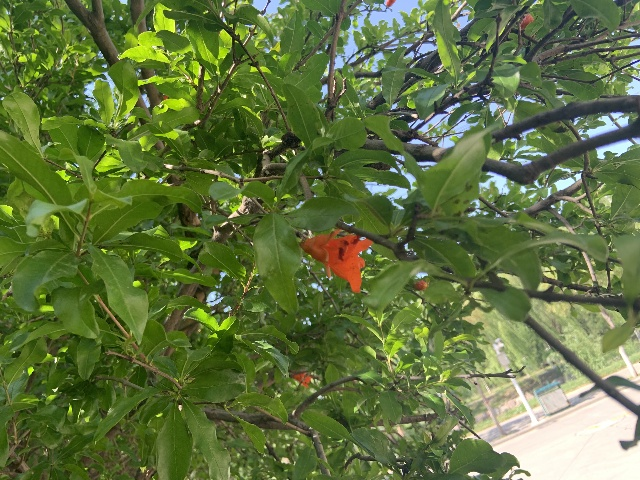bud: (520, 14, 534, 38), (413, 280, 427, 290)
flower: (299, 227, 373, 293), (292, 372, 311, 387)
